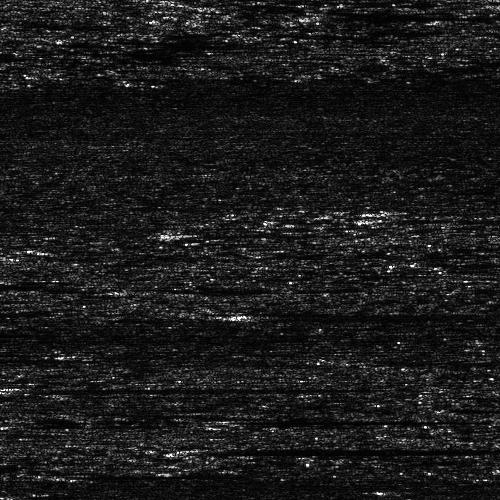rock: (8, 471, 133, 480), (268, 11, 361, 22), (127, 229, 232, 238), (148, 444, 253, 453), (170, 417, 263, 424), (202, 310, 275, 317), (0, 385, 58, 390)
shadow: (201, 444, 483, 453), (315, 11, 500, 22), (22, 385, 352, 390), (217, 417, 429, 424), (239, 310, 447, 317), (71, 471, 206, 480), (180, 229, 314, 238), (0, 352, 83, 361)
